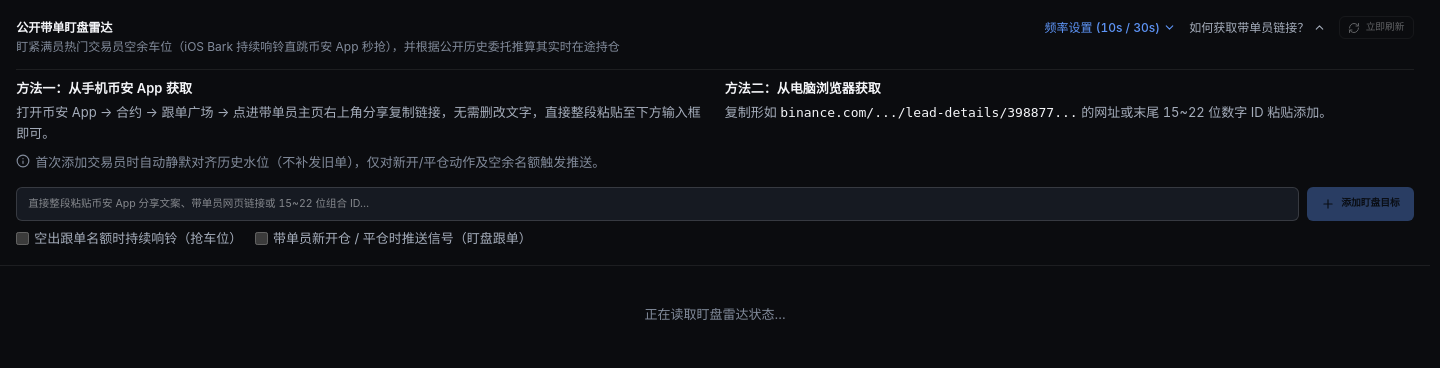
Test: v1.3.6 Follow-up 4 Audit Fixes › uses configured 3s / 10s intervals in PublicCopyWatcherPanel add toast instead of hardcoded 10s / 30s
In the field with test id "watcher-add-input": (658, 204) [16,187,1299,221], type "5075281354358777856"
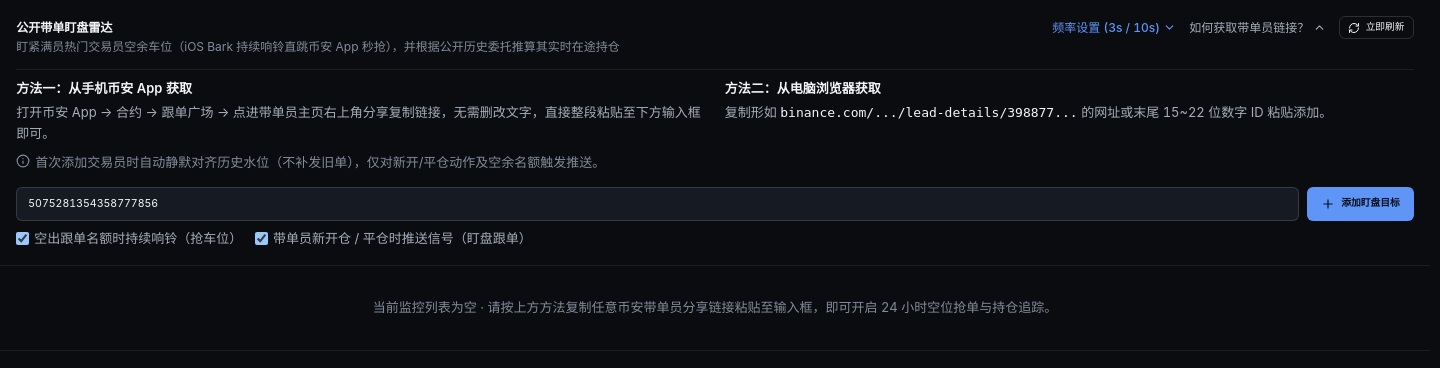
Click the button with test id "watcher-add-btn": (1361, 204) [1307,187,1414,221]
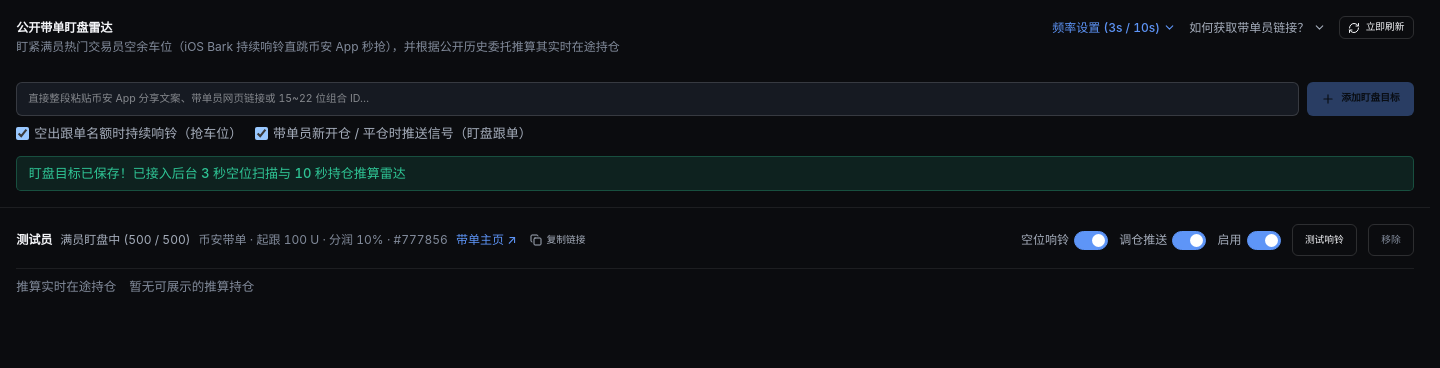
expect the text "3 秒空位扫描与 10 秒持仓推算" is shown: met, box [29,165,406,181]
# Re-adding the same ID shows preserved-settings message instead of claiming newly added
In the field with test id "watcher-add-input": (658, 99) [16,82,1299,116], type "5075281354358777856"
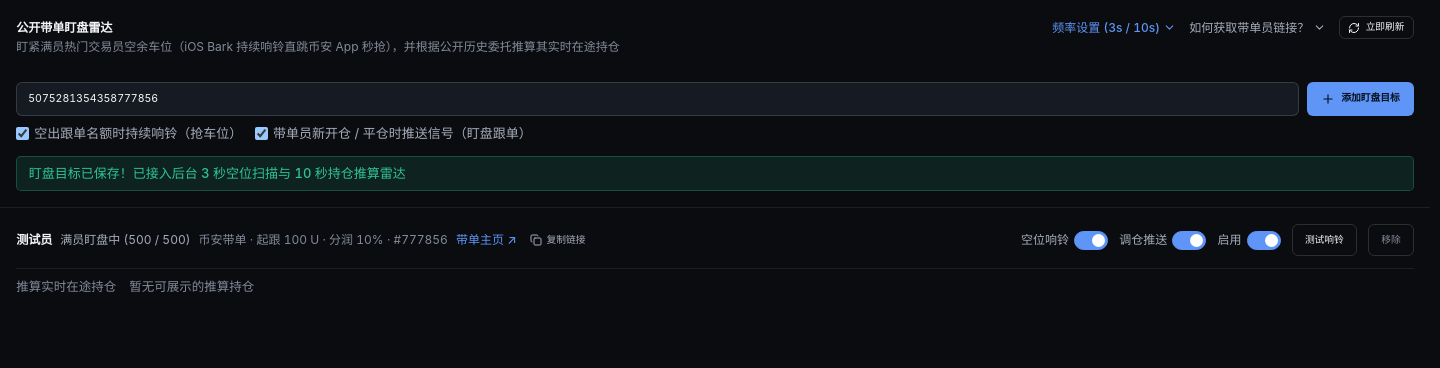
Click the button with test id "watcher-add-btn": (1361, 99) [1307,82,1414,116]
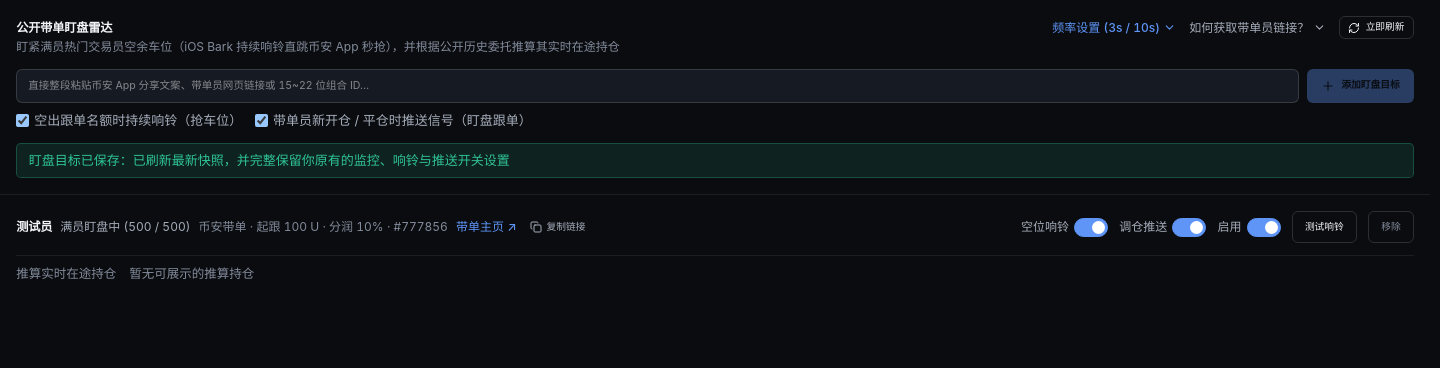
expect the text "保留你原有的监控、响铃与推送开关设置" is shown: met, box [29,152,510,168]
